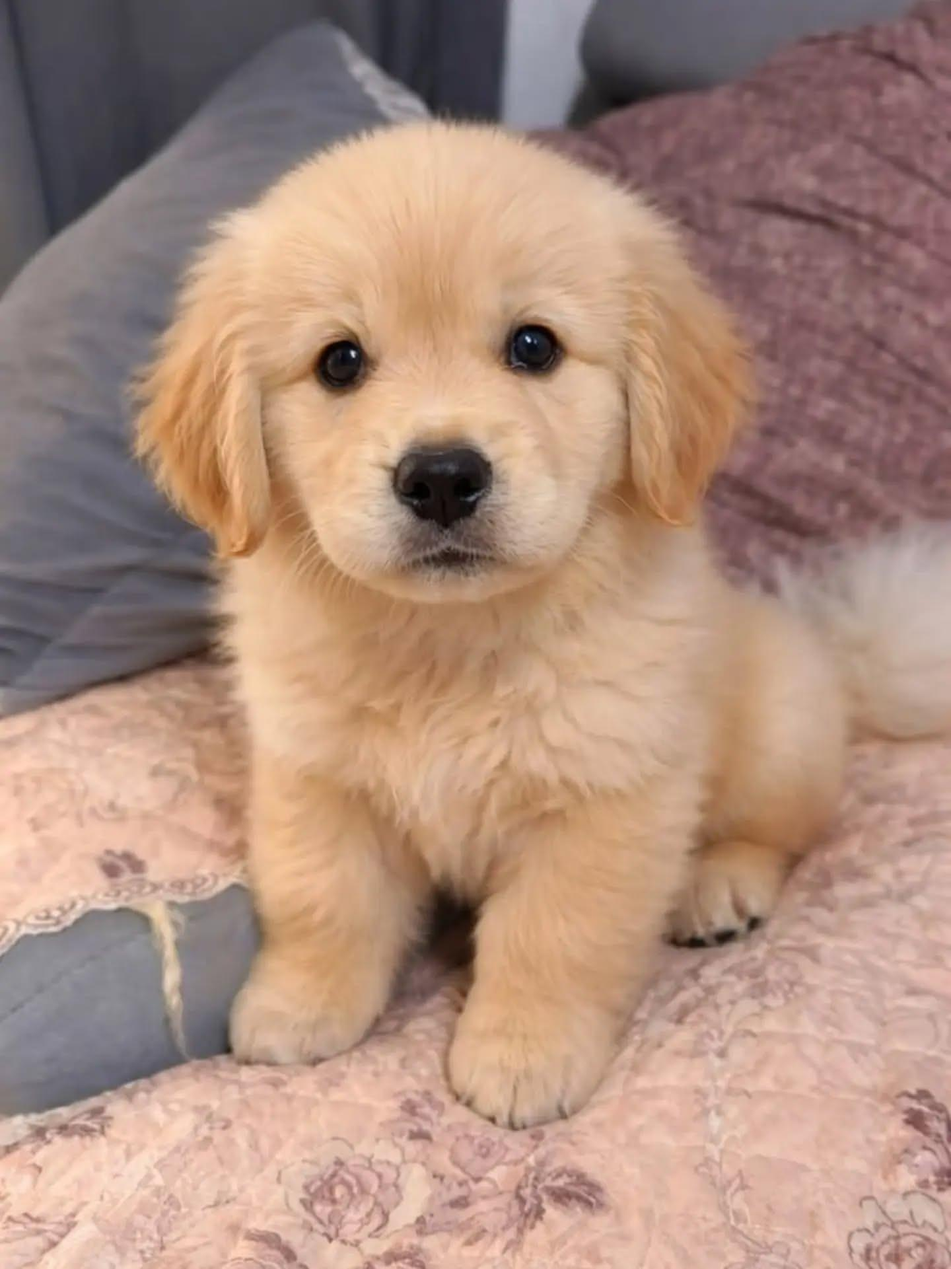puppy-dog: (124, 114, 951, 1126)
